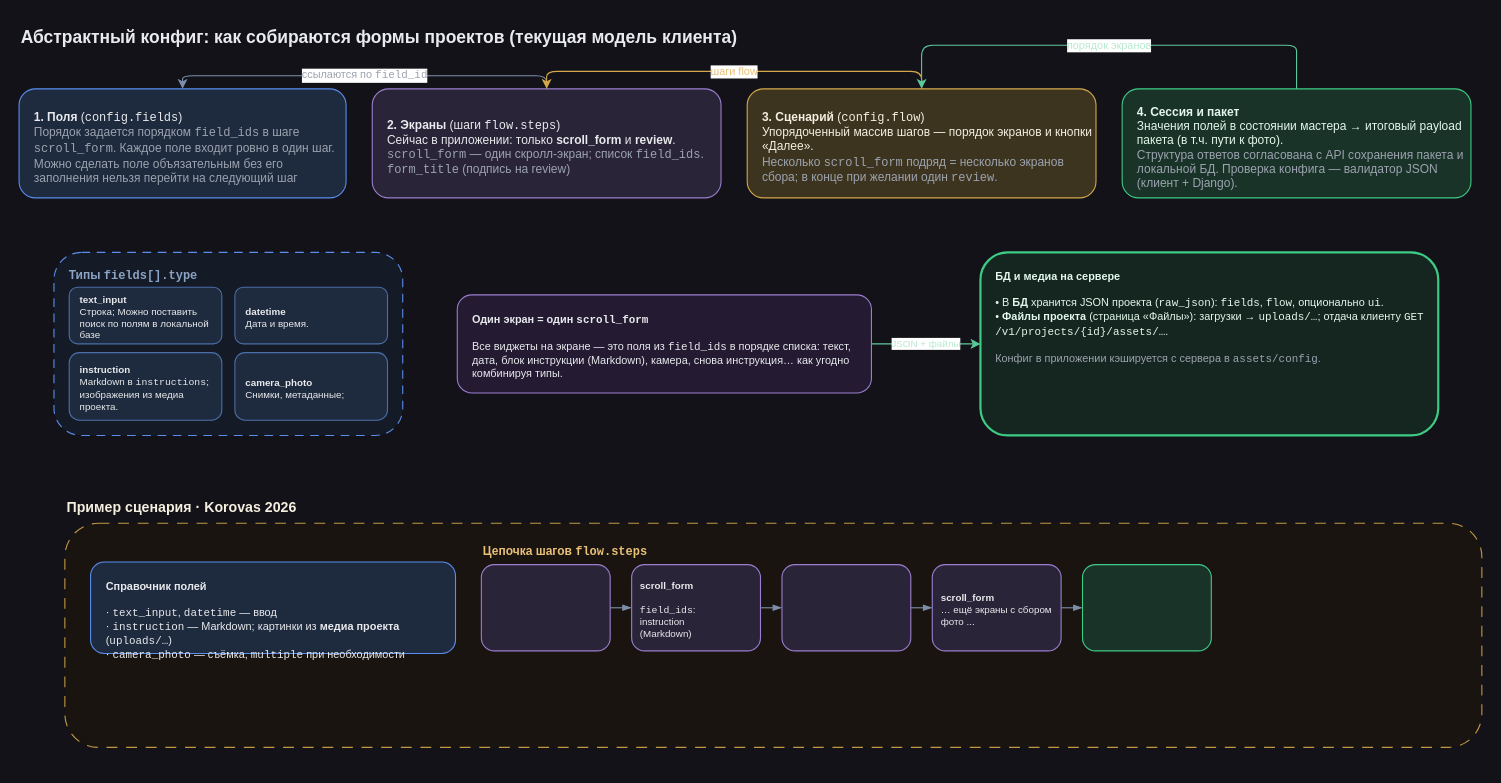
The diagram is 1501 pixels wide and 783 high, and some of its shapes have lost their labels. Here are the shapes that lost their labels. From the top down, the centre of each, then its label:
the point at 545,607: scroll_form form_title (опц.) field_ids : текст, дата, …
the point at 846,607: scroll_form field_ids : guide + camera_photo
the point at 1146,607: review сводка перед отправкой
